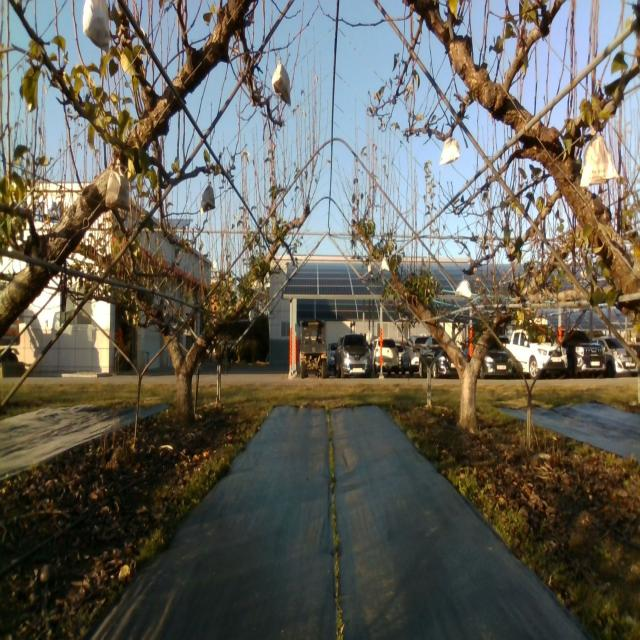pearbags: (579, 134, 618, 188), (83, 0, 112, 53), (106, 156, 130, 213), (271, 56, 291, 106), (440, 137, 460, 164), (200, 181, 216, 214), (454, 274, 472, 298)
